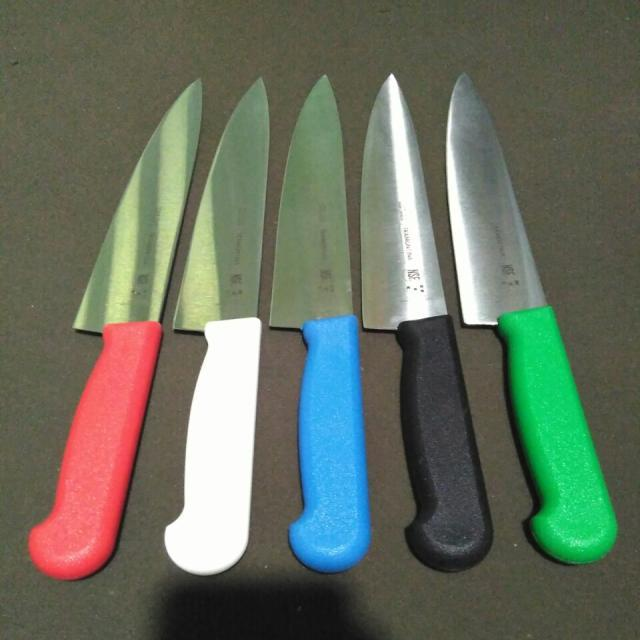Pisau: (266, 68, 392, 585)
